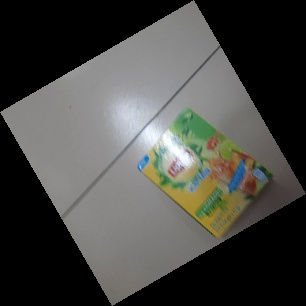LipTon: (135, 107, 273, 241)
